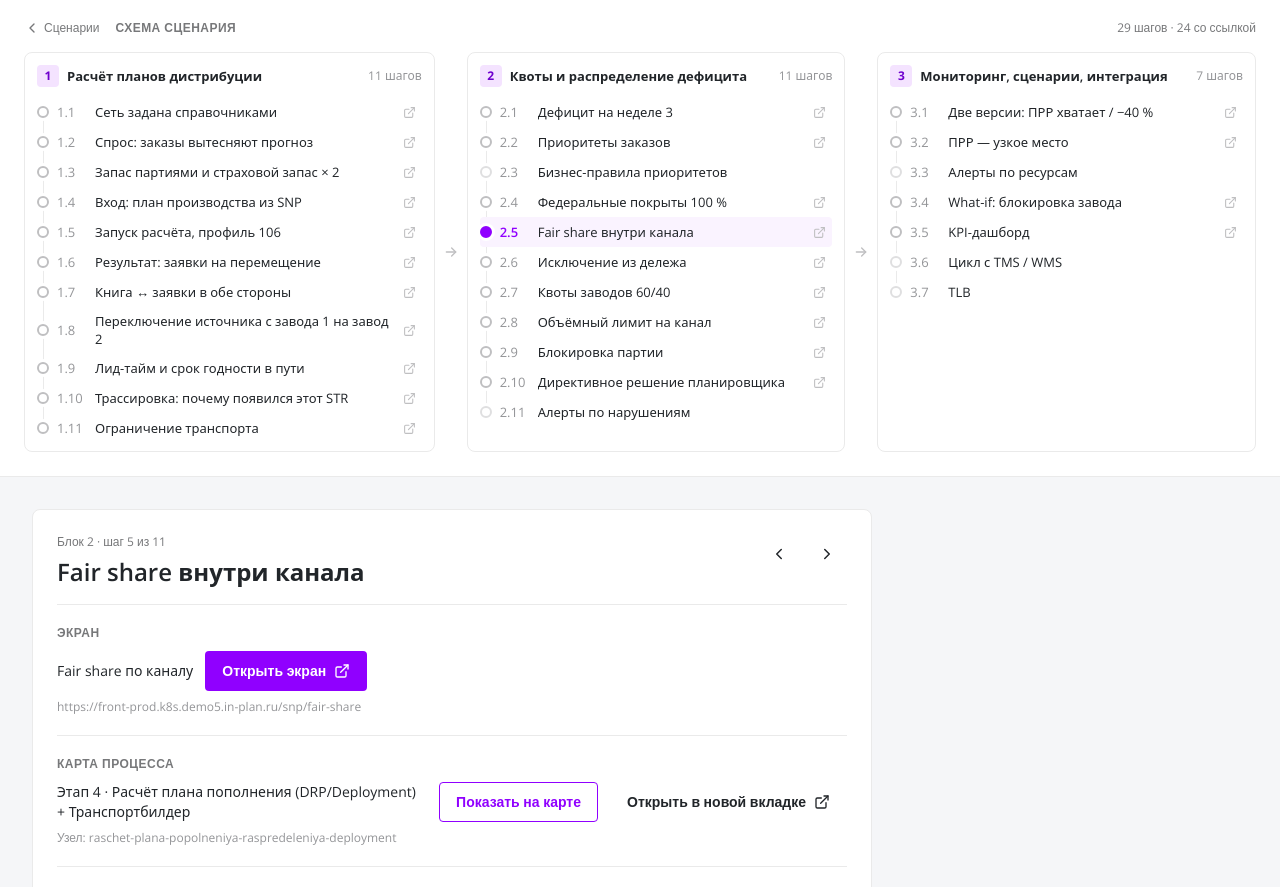
StrictMode — двойной эффект (SPEC §4.7:325) › ?scenario=deployment-demo&step=2.5, затем › → step=2.6 в адресе
The image size is (1280, 887).
Expected: the heading "Fair share внутри канала" is shown, [57, 555, 365, 588]
Click the button named "Следующий шаг" at (827, 554), box [807, 534, 847, 574]
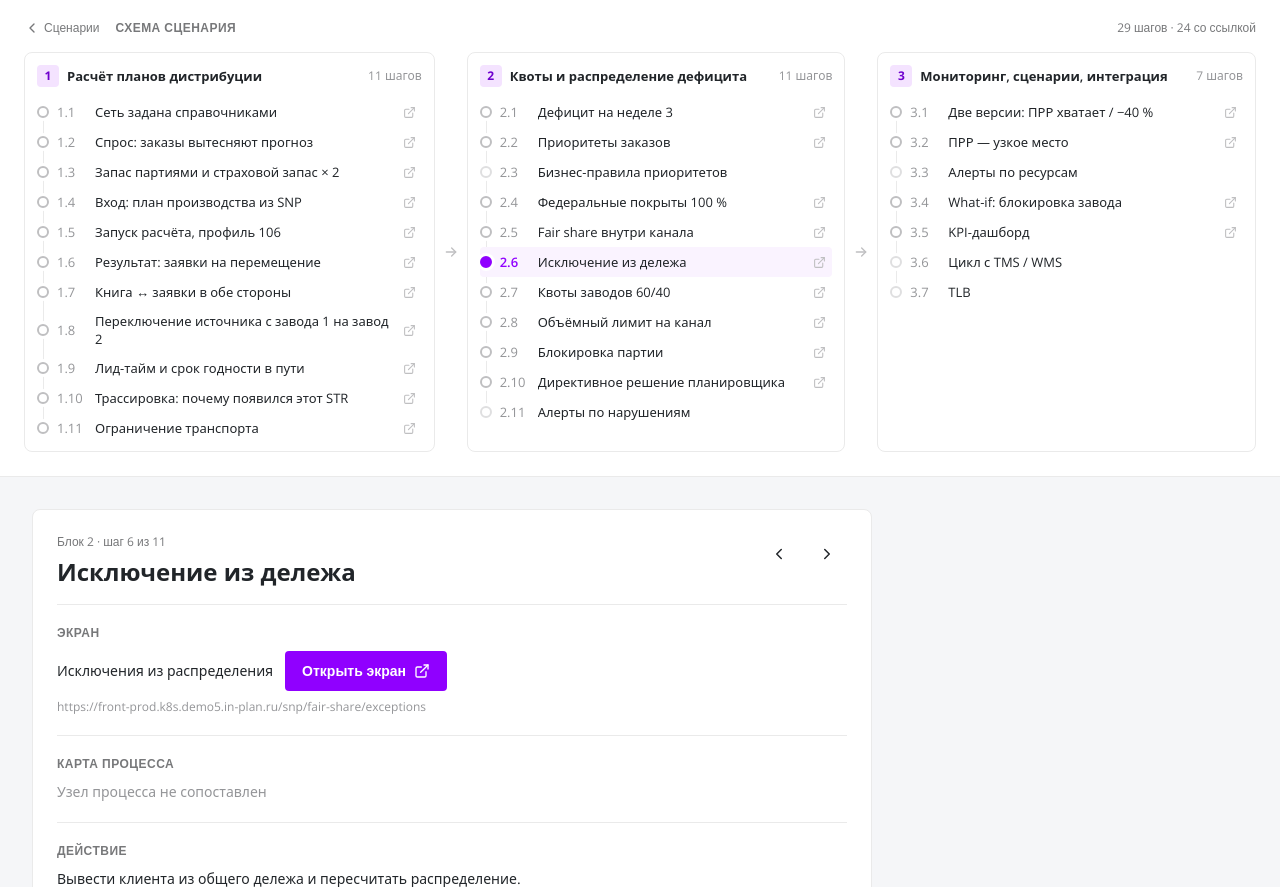
Now the heading "Исключение из дележа" is shown, box [57, 555, 356, 588]
